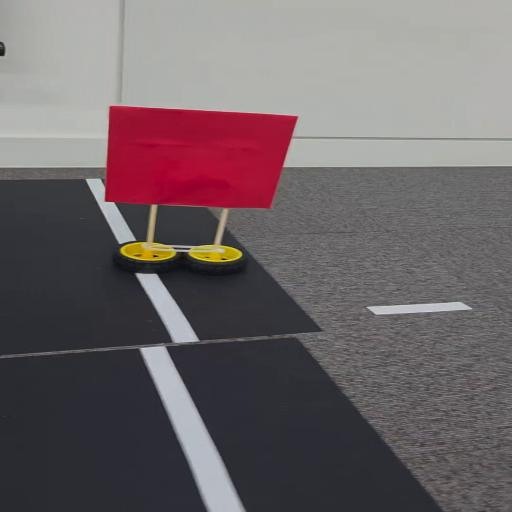Sign_A: (94, 99, 296, 285)
